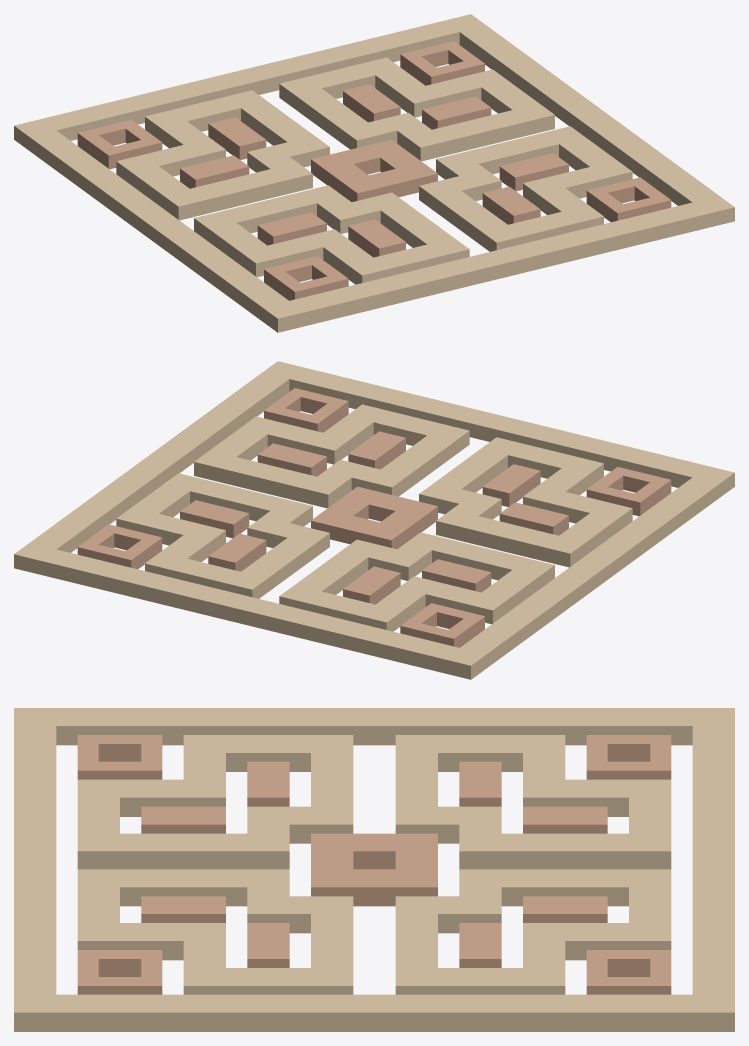
The model's file is BS_Ground_3.fbx.
3 renders of one model, top to bottom at view 1: azimuth 30°, elevation 25°; view 2: azimuth 150°, elevation 25°; view 3: azimuth 270°, elevation 25°, orthographic. The views are drawn at different scales.
Parts seen in each view (by area): view 1: BS_Ground_3; view 2: BS_Ground_3; view 3: BS_Ground_3.
Part boxes in pixels (x1,y1,x2,y2): BS_Ground_3: (14,14,734,332); BS_Ground_3: (14,361,734,679); BS_Ground_3: (14,708,734,1031).
Bounding box in the file's own units: 85 × 85 × 2.5.
